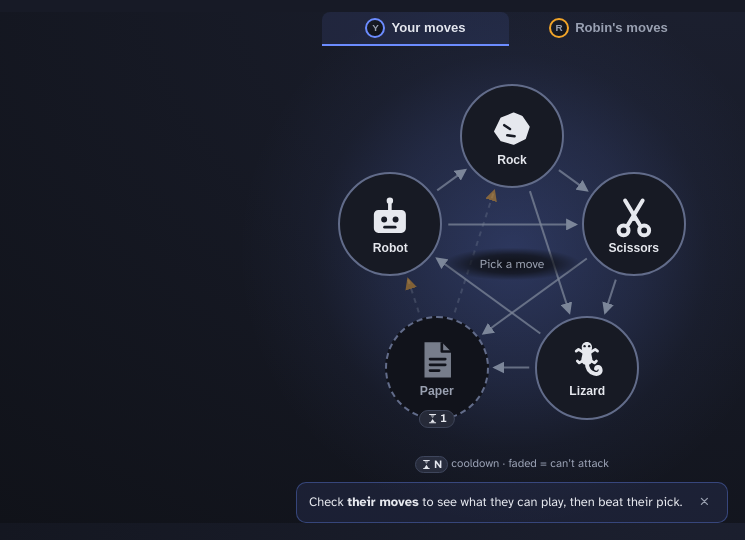
Test: <MovePicker> buttons carry only your own state (JQ 2.1/2.2) › reaches back two rounds when that is the reason
The width and height of the screenshot is (745, 540).
Click the button "Paper 1" at x=437, y=368, box [385, 316, 489, 420]
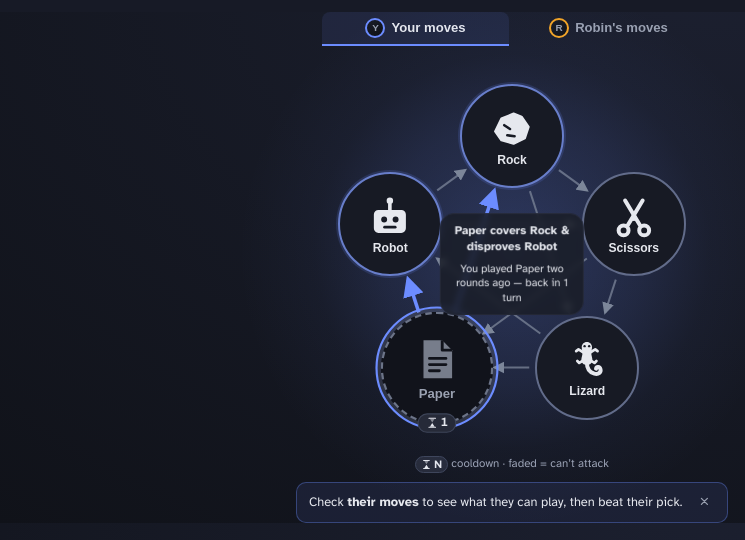
Result: the element that starts with "Paper covers Rock & disproves Robot" shows "You played Paper two rounds ago — back in 1 turn" at [440, 213, 584, 315]
